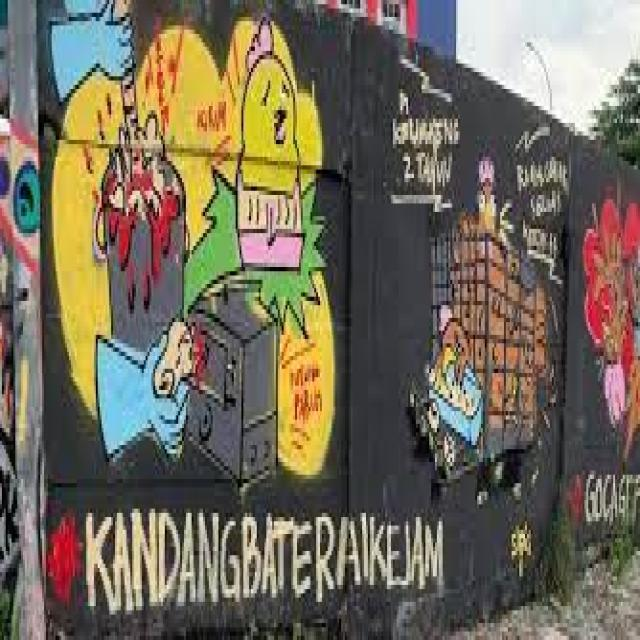-: (51, 0, 337, 484), (428, 152, 546, 486), (46, 510, 444, 606), (0, 104, 40, 615), (584, 187, 640, 448), (391, 50, 462, 217), (516, 124, 561, 278), (564, 468, 640, 527)
